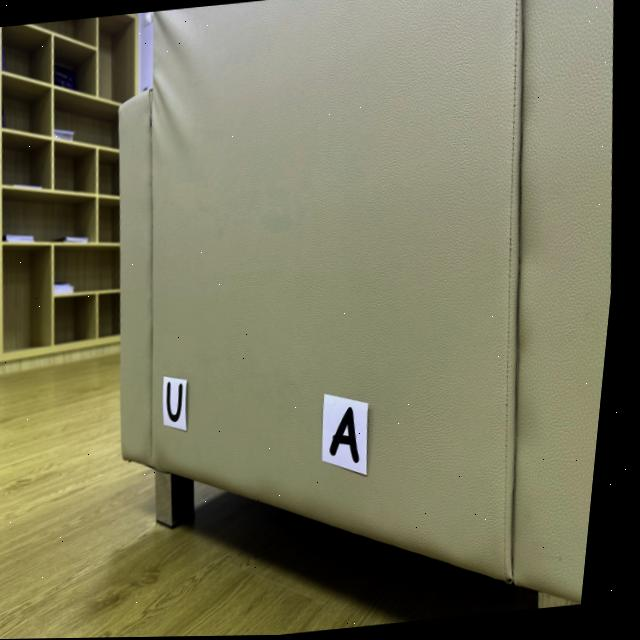A: (339, 408, 368, 464)
U: (175, 383, 190, 422)
